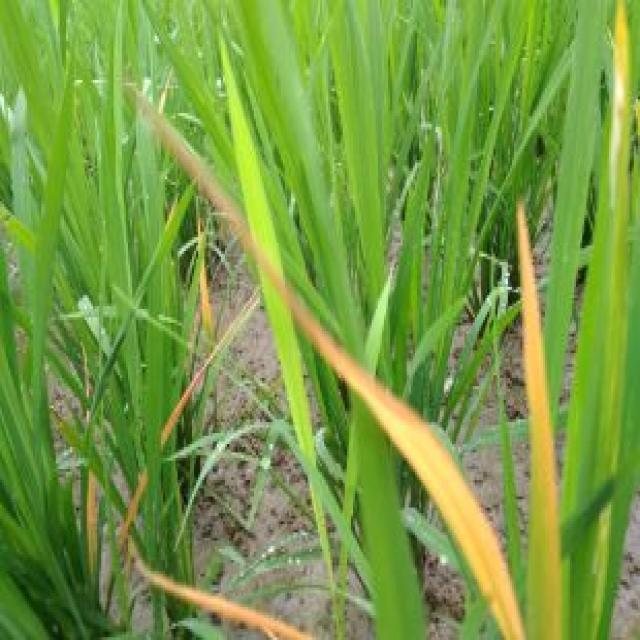Rice Tungro: (509, 194, 572, 633)
